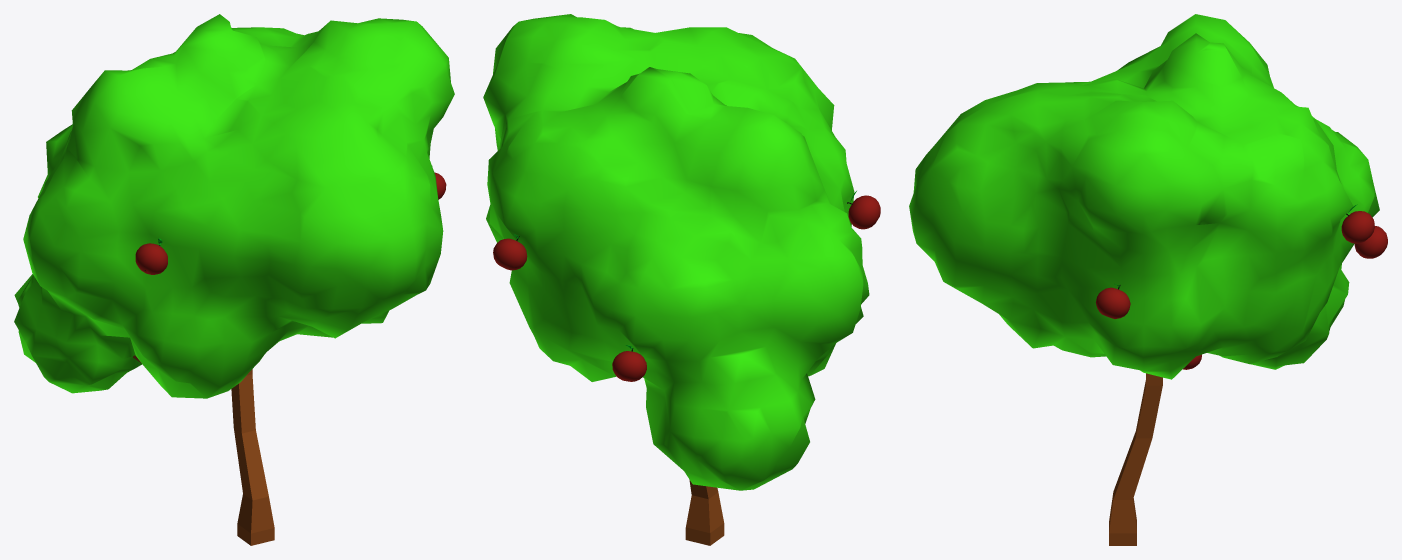
File: SM_AppleTree_001_LOD2.fbx
3 renders of one model, left to right at view 1: azimuth 30°, elevation 25°; view 2: azimuth 150°, elevation 25°; view 3: azimuth 270°, elevation 25°, orthographic. The views are drawn at different scales.
Visible parts, largest first — view 1: AppleTree; view 2: AppleTree; view 3: AppleTree.
Boxes of the visible parts, x1=… form: AppleTree: x1=14, y1=14, x2=454, y2=545; AppleTree: x1=483, y1=14, x2=880, y2=545; AppleTree: x1=909, y1=14, x2=1387, y2=545.
Bounding box in the file's own units: 288 × 345 × 301.
